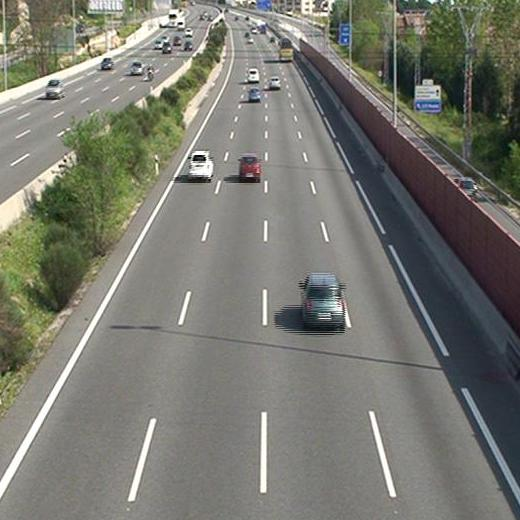bus: (279, 38, 294, 62)
car: (299, 274, 345, 329), (188, 150, 213, 179), (239, 156, 261, 180), (247, 69, 260, 82), (248, 88, 261, 101), (269, 77, 280, 90)
